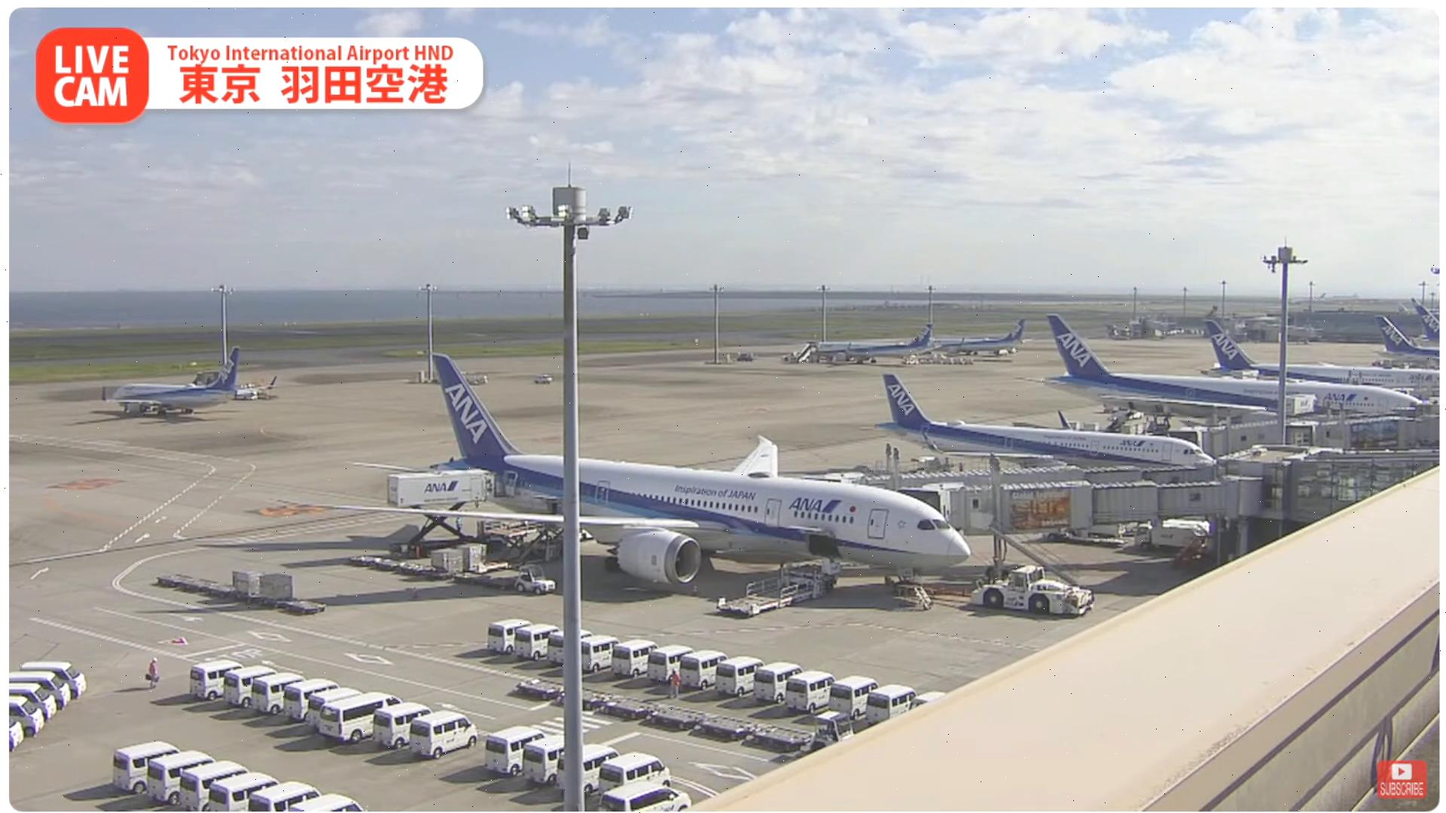APS: (969, 564, 1106, 619)
Aerobridge: (899, 476, 1264, 540), (843, 457, 1217, 496)
Airplane: (330, 354, 973, 599)
Catering: (387, 467, 515, 558)
Dolly: (510, 676, 818, 751), (157, 564, 332, 616), (351, 551, 510, 593)
JCPL: (714, 553, 842, 618), (481, 516, 567, 568)
Tractor: (810, 704, 863, 749), (516, 567, 559, 596)
Window: (1290, 456, 1440, 523)
